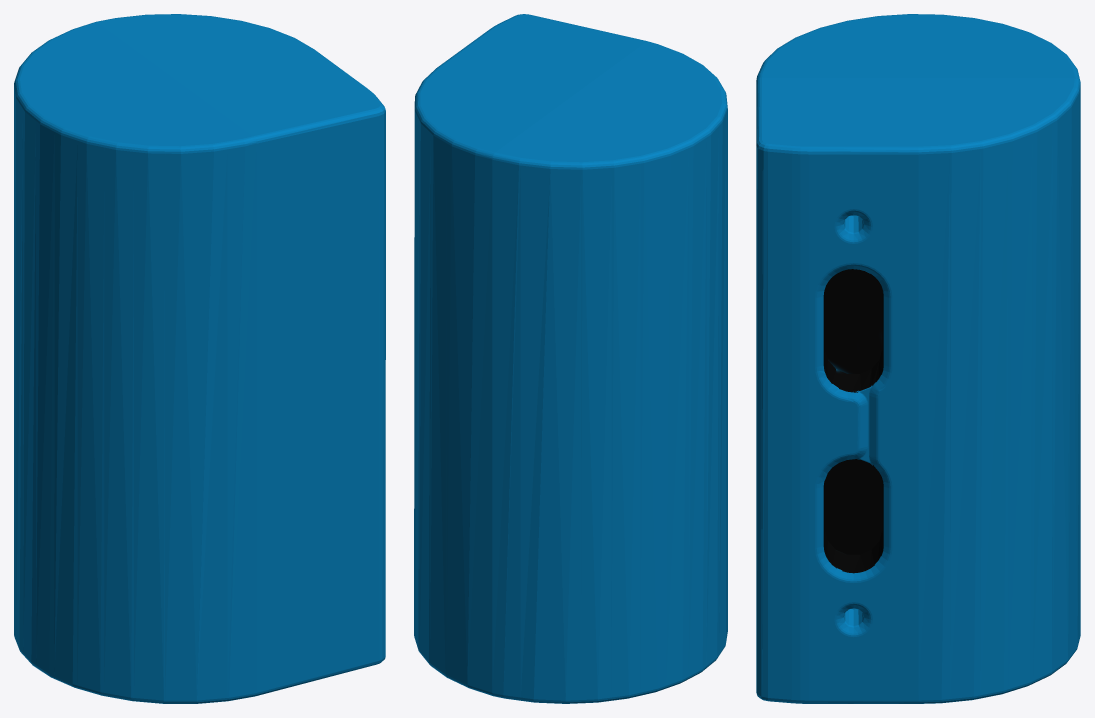
The model's file is head_tilt_link.obj.
3 views of the same model, side by side, from view 1: azimuth 30°, elevation 25°; view 2: azimuth 150°, elevation 25°; view 3: azimuth 270°, elevation 25° (orthographic). The views are drawn at different scales.
Visible parts, largest first — view 1: obj1; view 2: obj1; view 3: obj1.
Part boxes in pixels (bbox=[...]): obj1: bbox=[14, 14, 385, 703]; obj1: bbox=[414, 14, 727, 703]; obj1: bbox=[756, 14, 1080, 703].
Bounding box in the file's own units: 0.1099 × 0.21 × 0.11.
